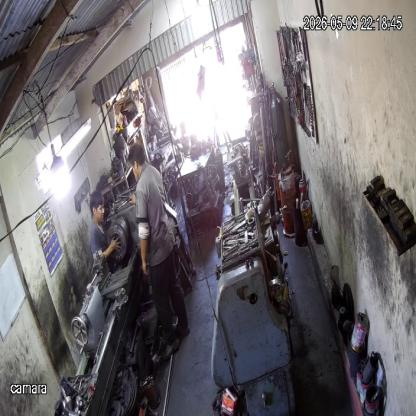sin_lentes: (95, 205, 106, 211)
